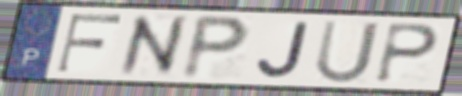F: (53, 12, 126, 74)
J: (254, 20, 313, 80)
N: (117, 13, 189, 79)
P: (178, 13, 254, 82), (372, 21, 442, 85)
U: (312, 18, 382, 85)
